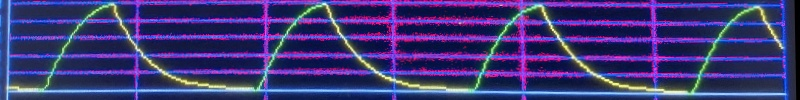normal_volume: (0, 0, 783, 96)
